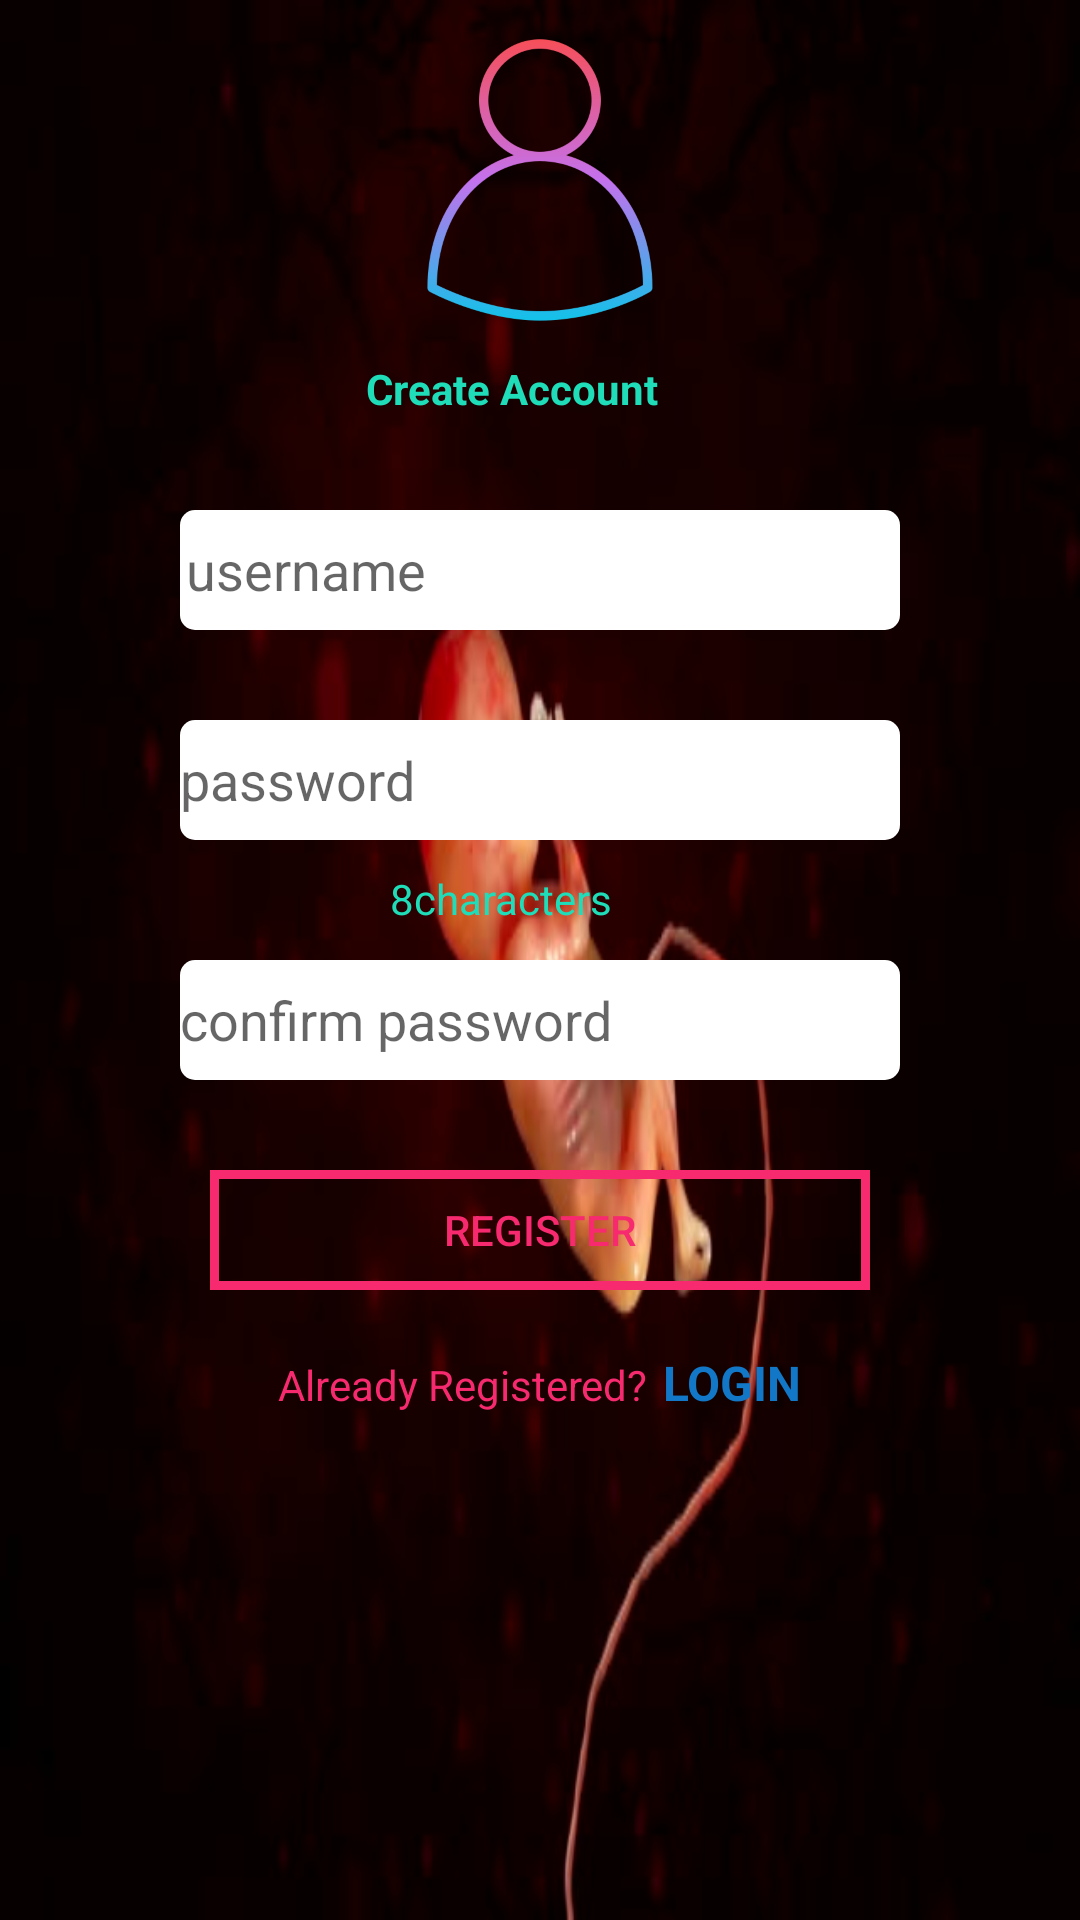

Named icons in this screenshot (1080 × 1920) and their centers, (x=x, y=y):
profile: (x=540, y=184)
